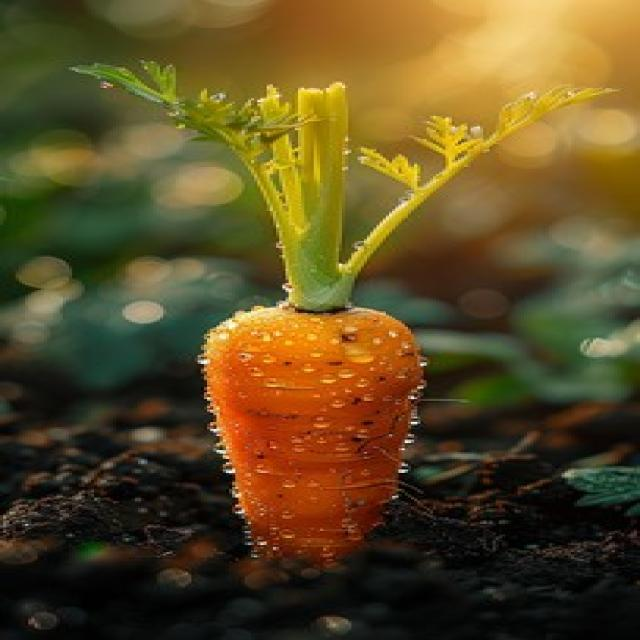carrot: (76, 62, 611, 562)
